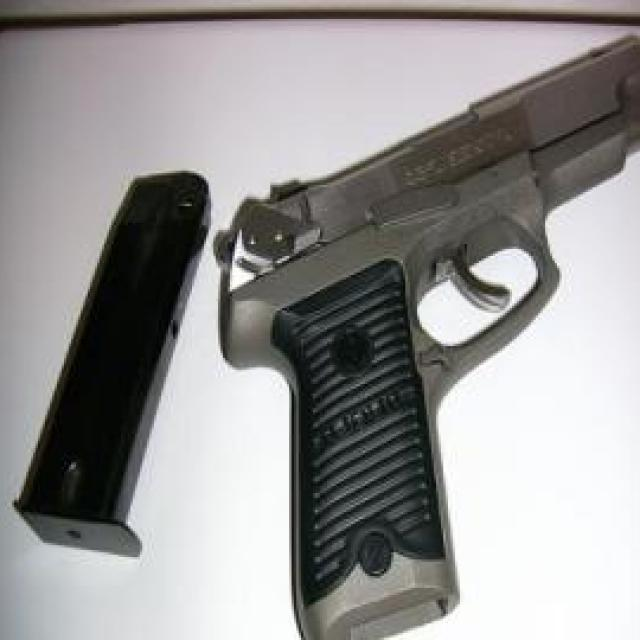pistol: (218, 35, 640, 640)
